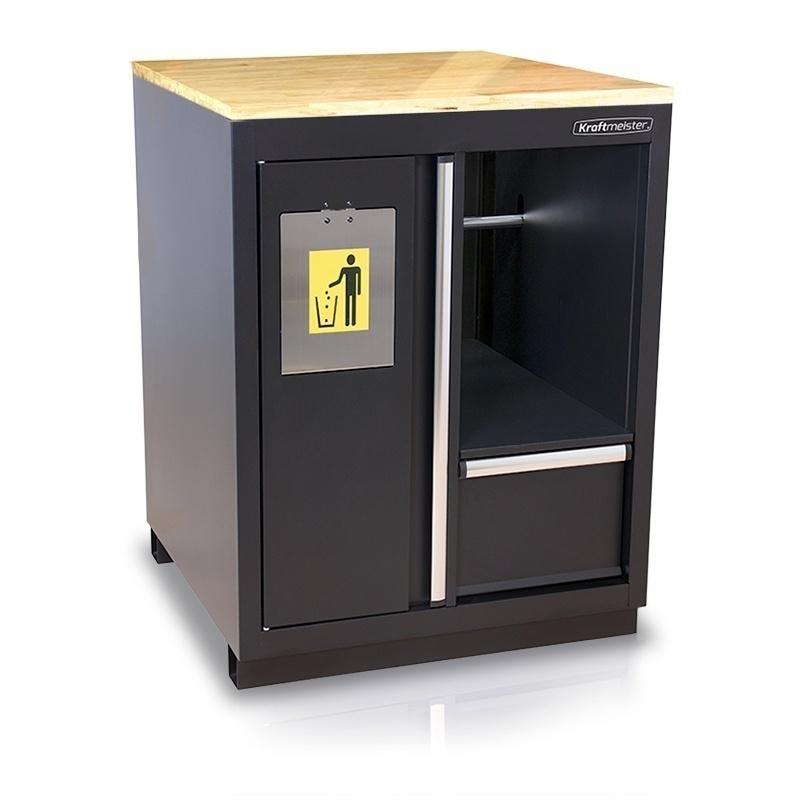cabinet_door: (263, 155, 459, 612), (455, 436, 628, 590)
handle: (425, 156, 457, 612), (461, 444, 627, 484)
